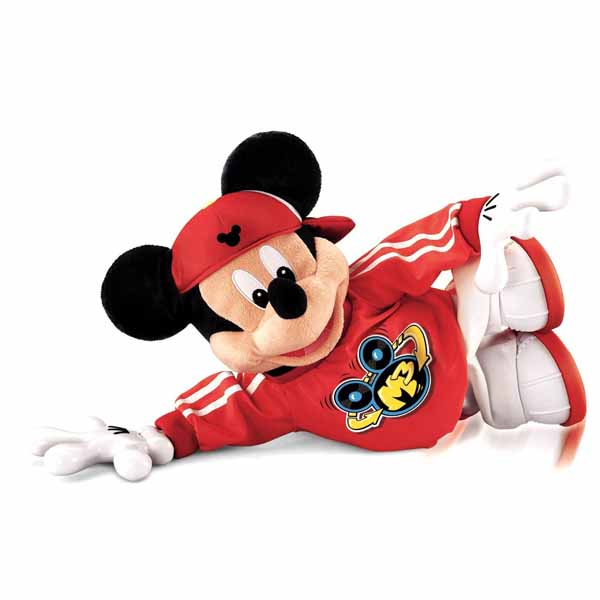Mickey: (95, 127, 356, 375)
